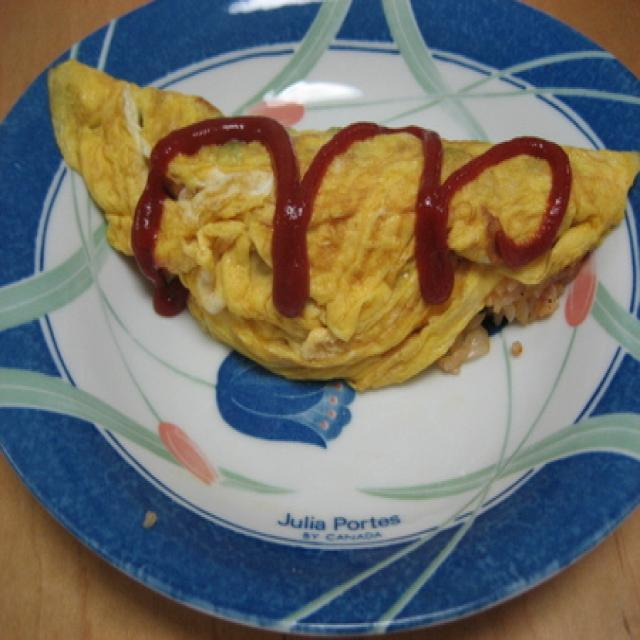Omelet: (45, 49, 640, 390)
